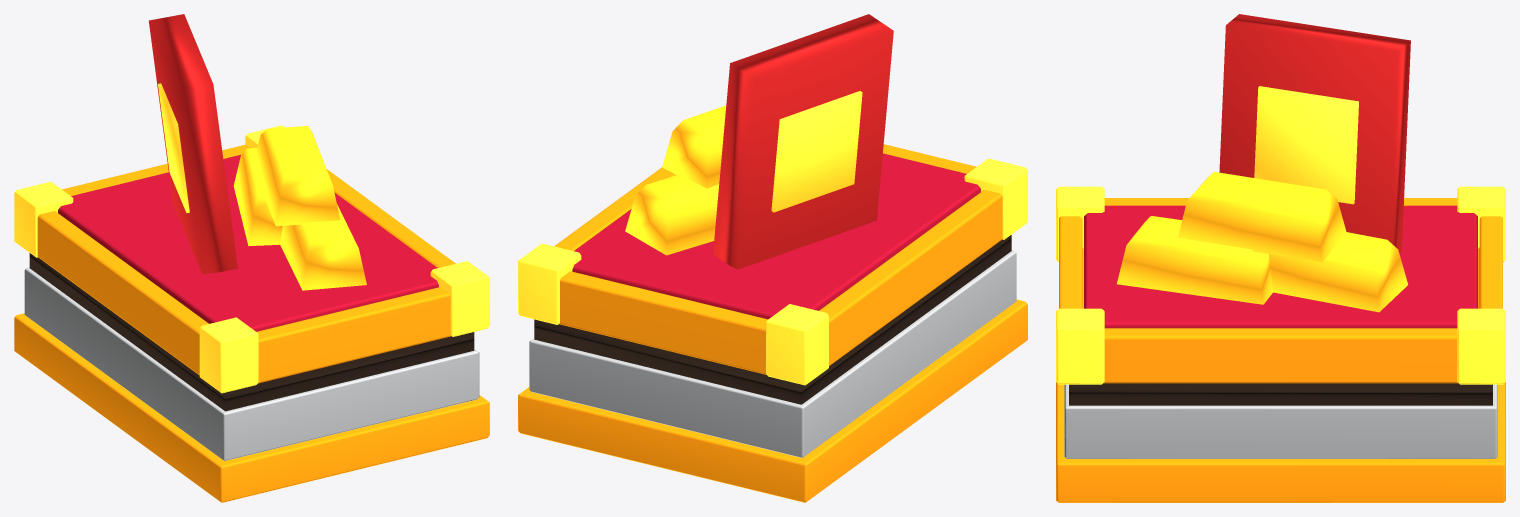
Rendered from wealth_tray_tier1.glb.
3 renders of one model, left to right at view 1: azimuth 30°, elevation 25°; view 2: azimuth 150°, elevation 25°; view 3: azimuth 270°, elevation 25°, orthographic. The views are drawn at different scales.
Parts seen in each view (by area): view 1: SanctuaryWealthTray_Tier1; view 2: SanctuaryWealthTray_Tier1; view 3: SanctuaryWealthTray_Tier1.
Part boxes in pixels (box(x1,y1,x2,y2)): SanctuaryWealthTray_Tier1: box(14, 14, 489, 502); SanctuaryWealthTray_Tier1: box(518, 14, 1027, 502); SanctuaryWealthTray_Tier1: box(1056, 14, 1505, 502).
Size of the model in its own units: 0.36 by 0.44 by 0.48.
